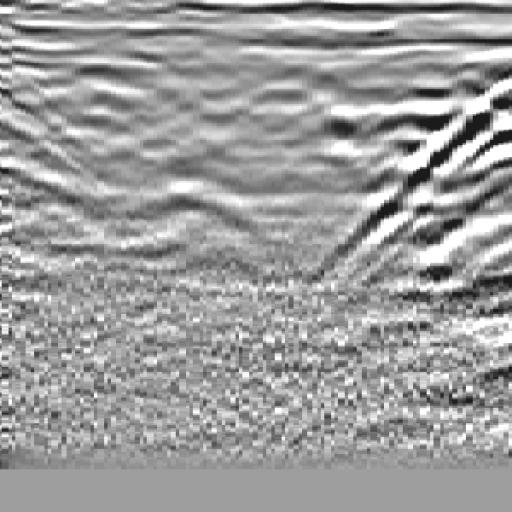metalic: (107, 48, 328, 301)
nonmetalic: (352, 53, 512, 355)
